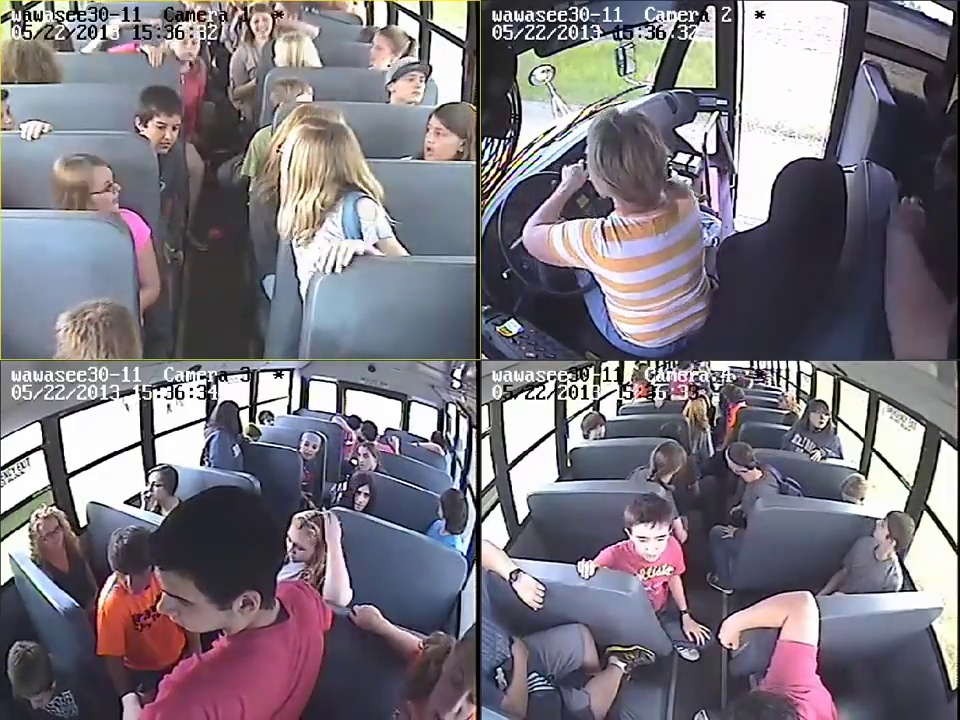face: (159, 570, 215, 642), (439, 649, 480, 720), (71, 171, 124, 209), (423, 116, 459, 160), (113, 559, 151, 599), (395, 65, 431, 102), (633, 526, 668, 561), (284, 526, 316, 561), (152, 117, 179, 152), (371, 34, 398, 66), (40, 515, 64, 551), (247, 11, 274, 37), (872, 517, 903, 539), (147, 473, 169, 500), (351, 482, 369, 511), (809, 405, 828, 430), (357, 450, 379, 470), (299, 438, 317, 458), (587, 423, 605, 439), (262, 414, 275, 426)
